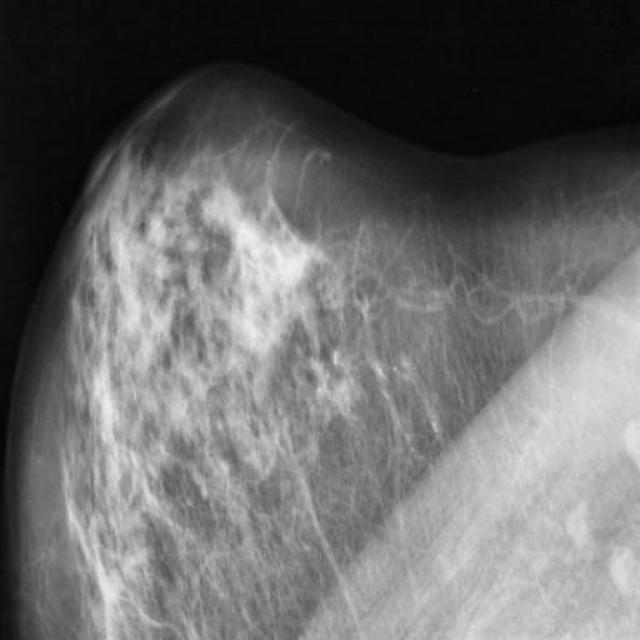cancer: (316, 249, 372, 325)
